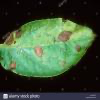Potato leaf early blight: (0, 18, 96, 76)
